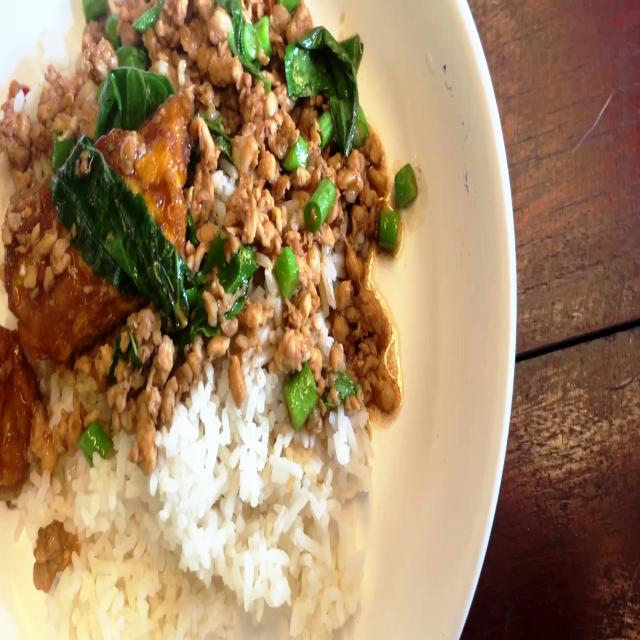fried_tofo: (3, 93, 194, 361), (0, 323, 39, 496)
minced_pork: (0, 0, 434, 488)
rice: (0, 387, 389, 639)
stir_fried_basil: (0, 0, 404, 637)
